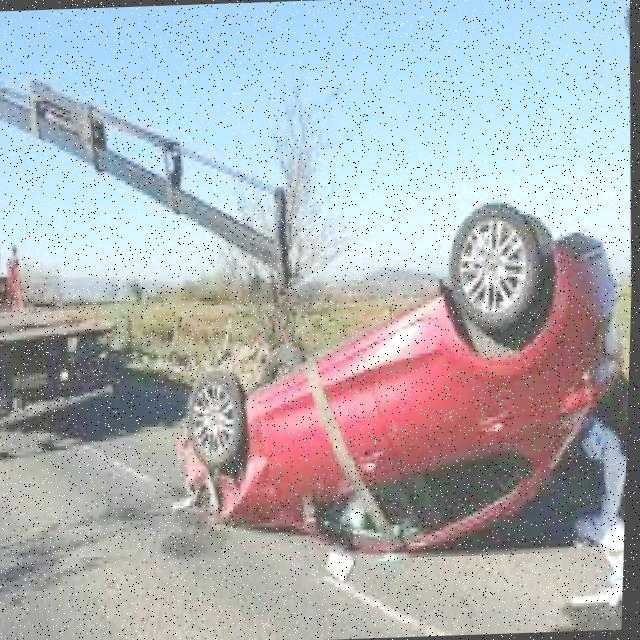Car Accident Detector - v4 Generation1 Exported: (160, 197, 636, 567)
